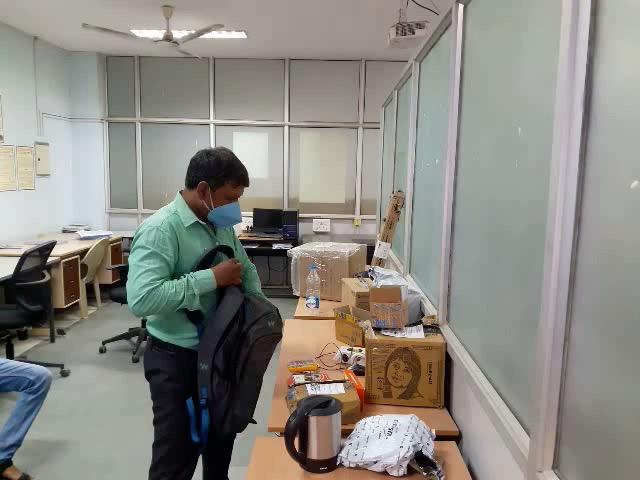shoplifting: (108, 239, 346, 420)
